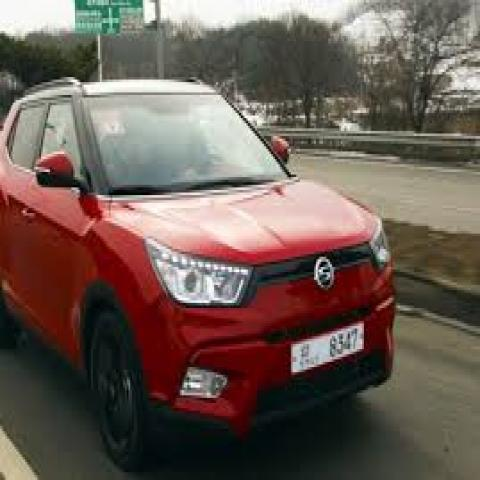LP: (280, 314, 369, 378)
